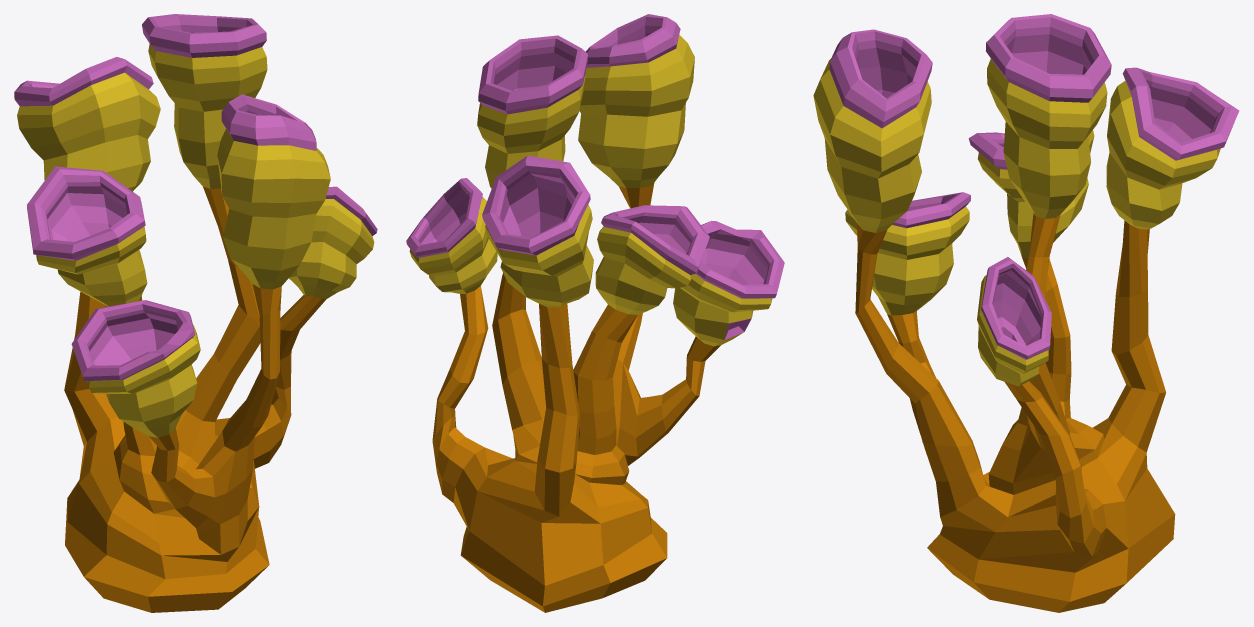
Rendered from Tree_16_Var_04.fbx.
3 views of the same model, side by side, from view 1: azimuth 30°, elevation 25°; view 2: azimuth 150°, elevation 25°; view 3: azimuth 270°, elevation 25° (orthographic). The views are drawn at different scales.
Parts seen in each view (by area): view 1: Tree_16_Var_04; view 2: Tree_16_Var_04; view 3: Tree_16_Var_04.
Boxes of the visible parts, box(x1,y1,x2,y2) form: Tree_16_Var_04: box(14, 14, 377, 612); Tree_16_Var_04: box(406, 14, 784, 612); Tree_16_Var_04: box(813, 14, 1239, 612).
Size of the model in its own units: 2.6 by 3.81 by 2.42.
